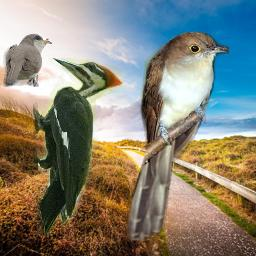Cuckoo: (127, 30, 229, 241), (3, 33, 52, 87)
Woodpecker: (33, 58, 123, 235)
